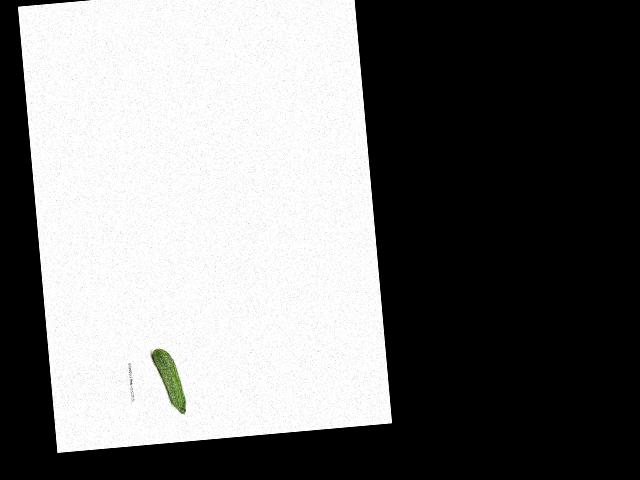cucumber: (151, 347, 186, 417)
